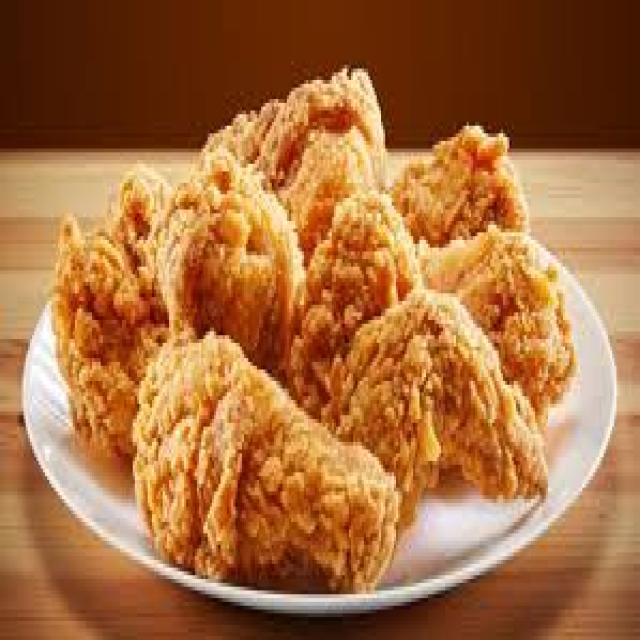ayam_goreng: (30, 64, 570, 574), (120, 328, 397, 612), (333, 269, 508, 512), (42, 194, 185, 445), (138, 134, 293, 342)
